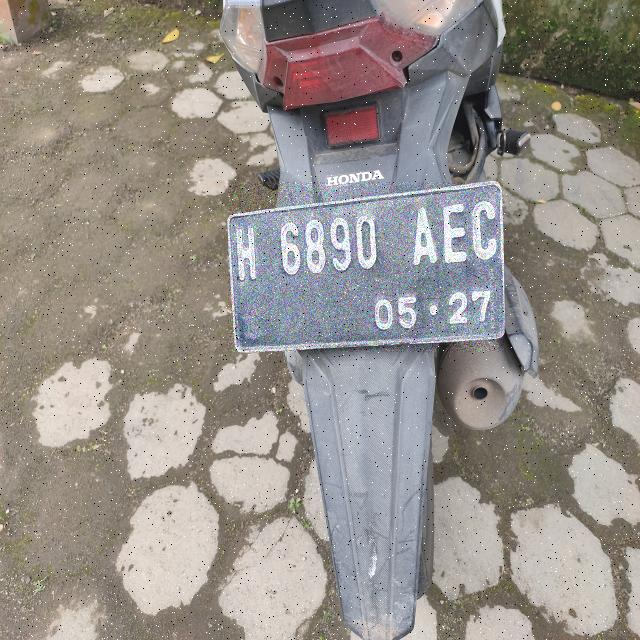plate: (228, 183, 503, 351)
